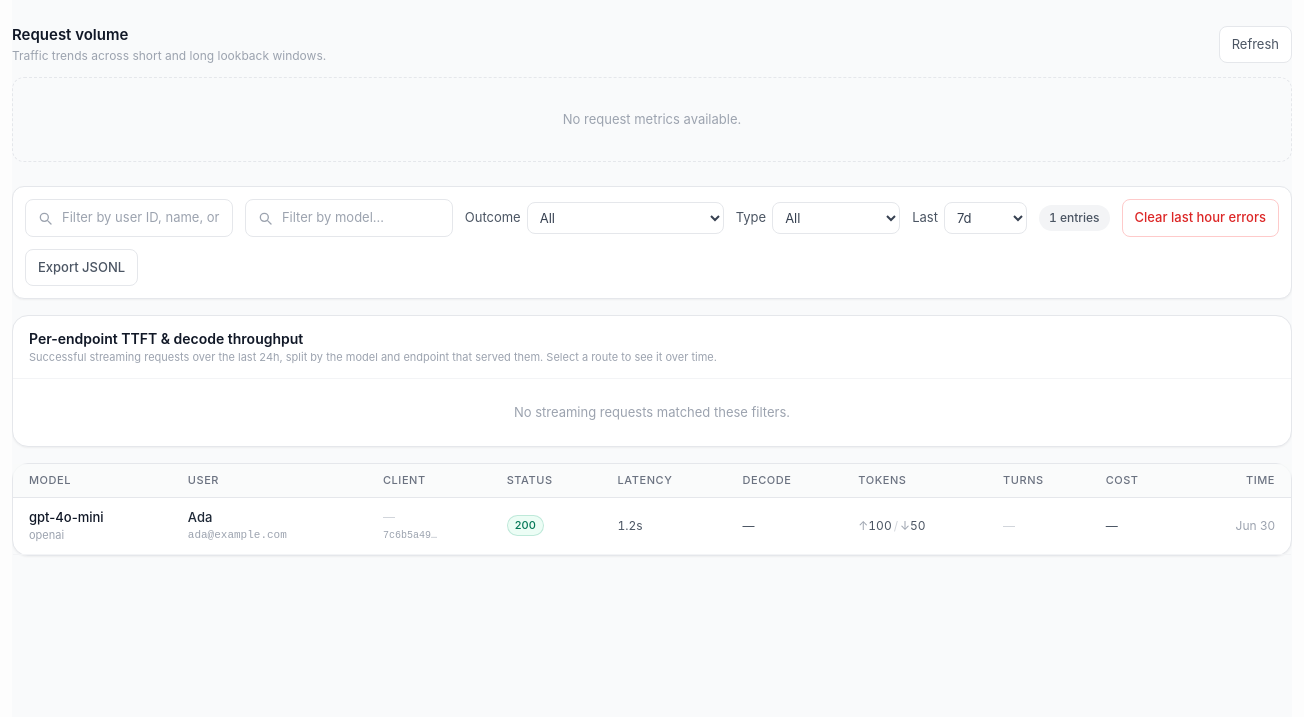
Test: RequestsTab session labelling › shows the full session and its source in the expanded row
Click the text "gpt-4o-mini" at (66, 517), box [29,508,104,527]
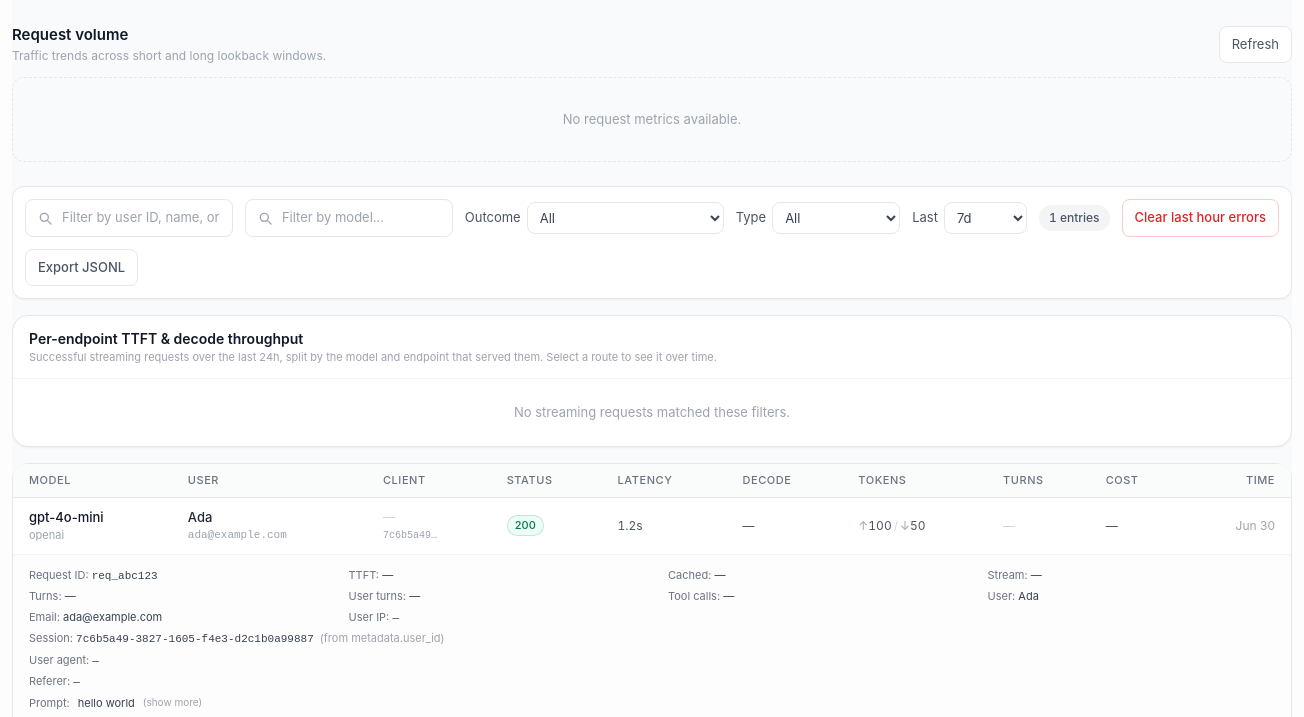
expect the text "Session:" is shown: met, box [29,631,73,645]
expect the text "7c6b5a49-3827-1605-f4e3-d2c1b0a99887" is shown: met, box [76,633,314,645]
expect the text "(from metadata.user_id)" is shown: met, box [320,631,445,645]
